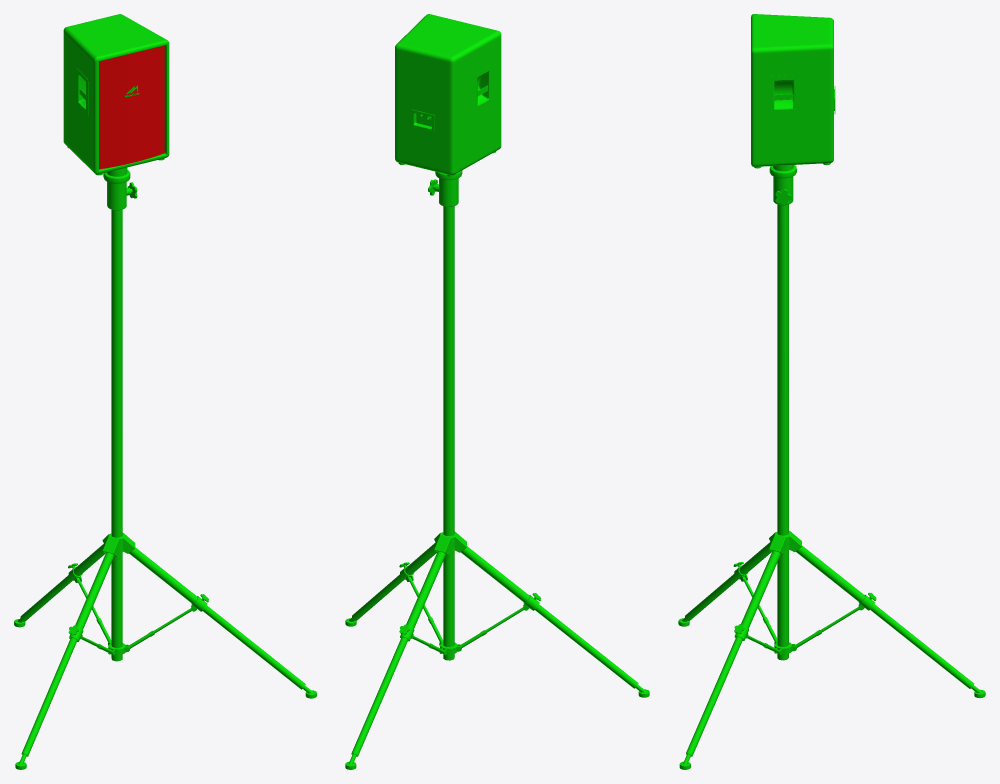
Rendered from AR_Speaker_v12.fbx.
The picture shows the model from 3 angles, left to right: view 1: azimuth 30°, elevation 25°; view 2: azimuth 150°, elevation 25°; view 3: azimuth 270°, elevation 25°; orthographic projection.
Visible parts, largest first — view 1: JRX_215_25; view 2: JRX_215_25; view 3: JRX_215_25.
Boxes of the visible parts, x1,y1,x2,y2 form: JRX_215_25: (14, 14, 316, 769); JRX_215_25: (345, 14, 649, 769); JRX_215_25: (678, 14, 985, 769).
Size of the model in its own units: 110 by 231 by 96.75.
